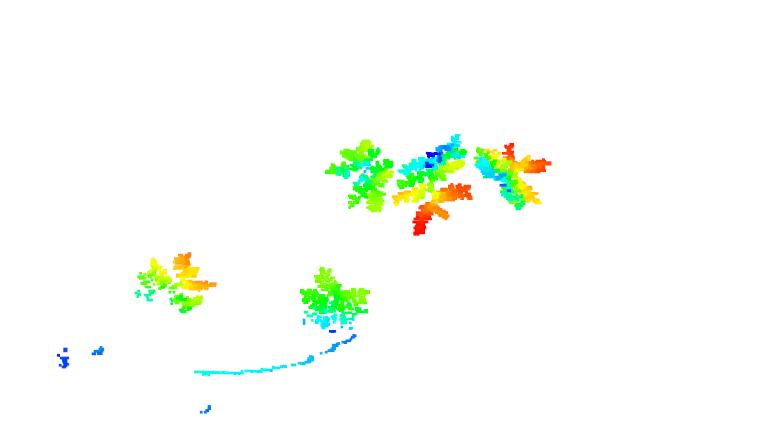chickpea: (392, 133, 470, 238), (474, 140, 554, 209), (133, 250, 217, 314), (325, 137, 394, 213), (300, 268, 372, 331)
